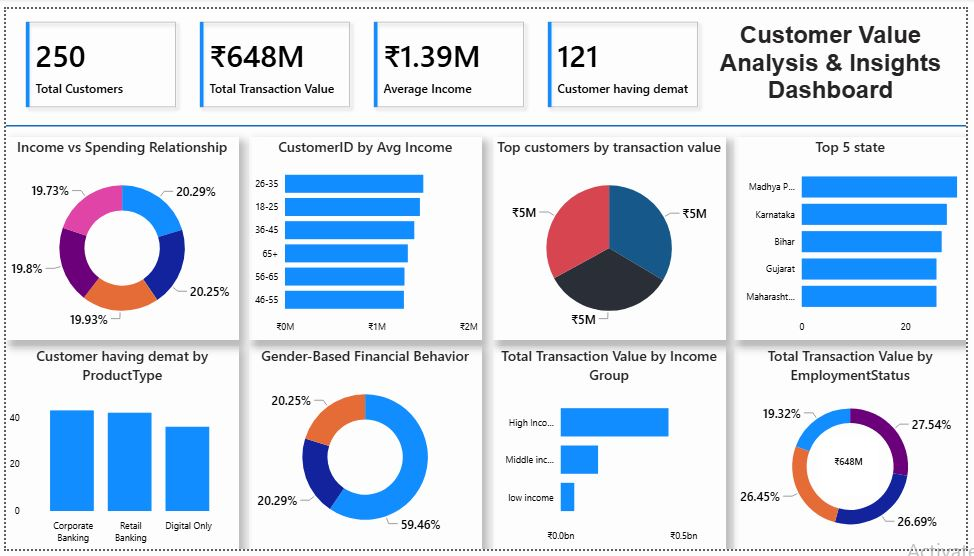

The page's visual inventory and layout, read from the dashboard file:
{"tool":"powerbi","page":{"name":"Page 1","canvas":[1280,720],"ordinal":0},"visuals":[{"type":"cardVisual","fields":{"Data":["Bank_Customers_India.Total Customers","Bank_Customers_India.Total Transaction Value","Bank_Customers_India.Average Income","Bank_Customers_India.Customer having demat"]},"box":[9.6,0,933.2,148.6],"z":0},{"type":"barChart","title":"CustomerID by Avg Income","fields":{"Category":["Bank_Customers_India.AgeGroup"],"Y":["Bank_Customers_India.Average Income"]},"box":[323.4,170.7,309.7,271.1],"z":1000},{"type":"shape","box":[0,148.6,1280,15.1],"z":2000},{"type":"barChart","title":"Top 5 state","fields":{"Y":["CountNonNull(Bank_Customers_India.CustomerID)"],"Category":["Bank_Customers_India.State"]},"box":[970.3,170.7,309.7,271.1],"z":3000},{"type":"pieChart","title":"Top customers by transaction value","fields":{"Category":["Bank_Customers_India.CustomerID"],"Y":["Bank_Customers_India.Total Transaction Value"]},"box":[649.6,170.7,309.7,271.1],"z":4000},{"type":"donutChart","title":"Income vs Spending Relationship","fields":{"Category":["Bank_Customers_India.AnnualIncome"],"Y":["Bank_Customers_India.Total Transaction Value"]},"box":[0,170.7,309.7,271.1],"z":5000},{"type":"donutChart","title":"Gender-Based Financial Behavior","fields":{"Y":["Bank_Customers_India.Total Transaction Value"],"Category":["Bank_Customers_India.Gender"]},"box":[323.4,448.7,309.7,271.1],"z":6000},{"type":"columnChart","fields":{"Category":["Bank_Customers_India.ProductType"],"Y":["Bank_Customers_India.Customer having demat"]},"box":[0,449,310,271],"z":7000},{"type":"barChart","fields":{"Category":["Bank_Customers_India.Income Group"],"Y":["Bank_Customers_India.Total Transaction Value"]},"box":[649.6,448.7,309.7,271.1],"z":8000},{"type":"donutChart","fields":{"Category":["Bank_Customers_India.EmploymentStatus"],"Y":["Bank_Customers_India.Total Transaction Value"]},"box":[970.3,448.7,309.7,271.1],"z":8001},{"type":"cardVisual","fields":{"Data":["Bank_Customers_India.Total Transaction Value"]},"box":[1085.7,569.9,76.7,79.7],"z":8002},{"type":"textbox","box":[928,0,342.7,148],"z":8003}]}

Visuals, with their boxes in screenshot pixels (x1, y1, x2, y2), scaled from the page's 1280x720 canvas onto the 974x556 screenshot:
cardVisual - Bank_Customers_India.Total Customers x Bank_Customers_India.Total Transaction Value: rect(7, 0, 717, 115)
"CustomerID by Avg Income" barChart: rect(246, 132, 482, 341)
shape: rect(0, 115, 973, 126)
"Top 5 state" barChart: rect(738, 132, 973, 341)
"Top customers by transaction value" pieChart: rect(494, 132, 730, 341)
"Income vs Spending Relationship" donutChart: rect(0, 132, 236, 341)
"Gender-Based Financial Behavior" donutChart: rect(246, 346, 482, 555)
columnChart - Bank_Customers_India.ProductType x Bank_Customers_India.Customer having demat: rect(0, 347, 236, 555)
barChart - Bank_Customers_India.Income Group x Bank_Customers_India.Total Transaction Value: rect(494, 346, 730, 555)
donutChart - Bank_Customers_India.EmploymentStatus x Bank_Customers_India.Total Transaction Value: rect(738, 346, 973, 555)
cardVisual - Bank_Customers_India.Total Transaction Value: rect(826, 440, 885, 502)
textbox: rect(706, 0, 967, 114)
